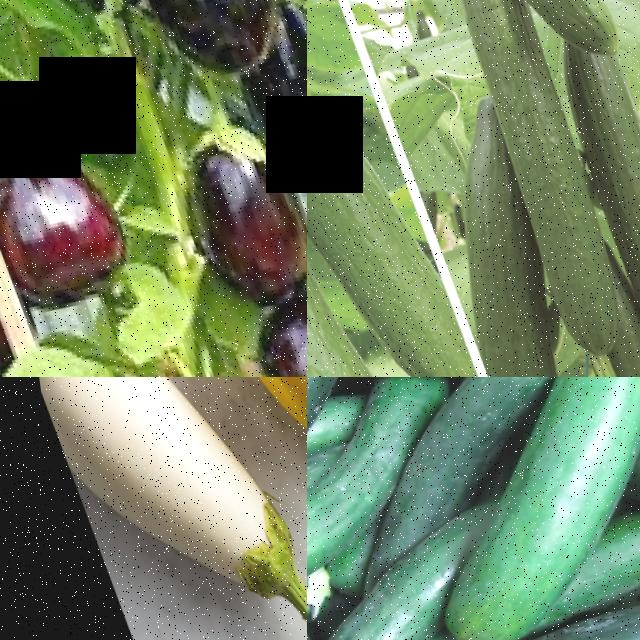cucumber: (437, 0, 640, 354), (389, 434, 640, 640), (410, 170, 620, 377), (307, 90, 446, 326), (546, 49, 640, 377), (421, 558, 640, 640), (514, 377, 640, 494), (307, 554, 454, 640), (307, 466, 380, 619), (475, 0, 622, 60)
eggplant: (18, 377, 307, 640), (151, 110, 307, 303), (0, 100, 135, 313), (138, 377, 307, 489), (94, 0, 289, 79), (218, 258, 307, 377)
